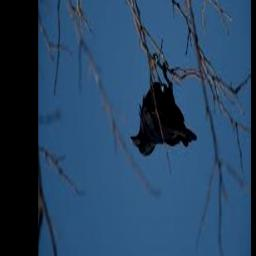Crow: (129, 62, 196, 158)
